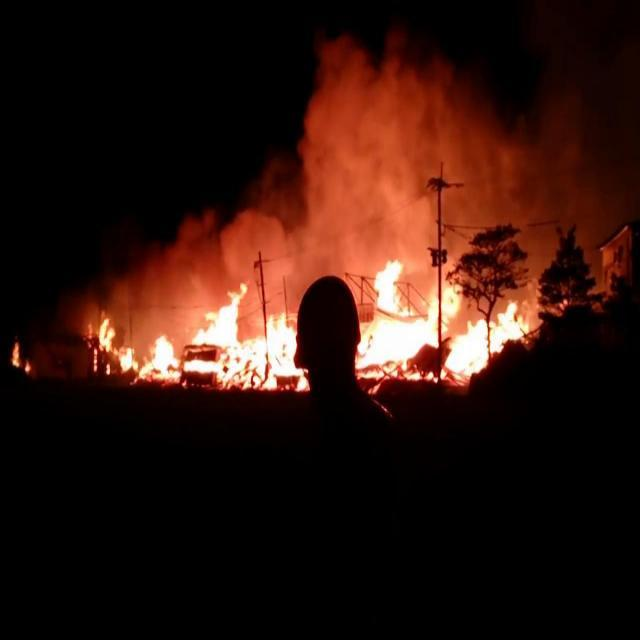Fire: (69, 32, 631, 346), (358, 258, 532, 377), (139, 281, 295, 389), (96, 318, 116, 350), (13, 344, 32, 372), (122, 348, 138, 371), (296, 374, 308, 391)
